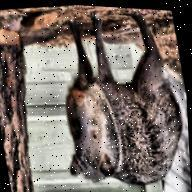boar: (41, 3, 192, 192)
